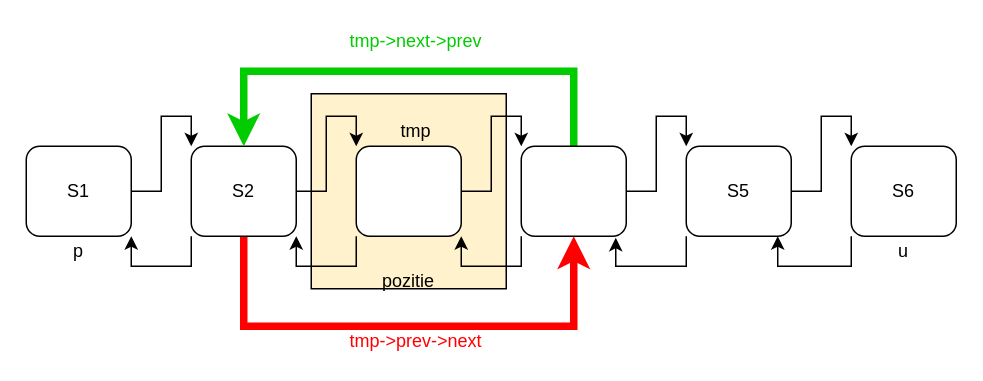
This 983x381 diagram has some shape labels left out. Here are the shapes that lost their labels. From the top down, the centre of each, then its label:
(408,190): S3
(573,190): S4
